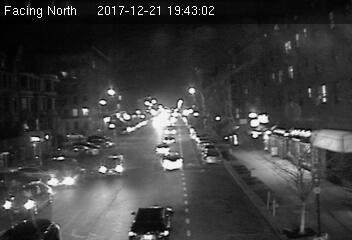car: (3, 181, 54, 215), (127, 205, 173, 240), (47, 164, 85, 189), (100, 155, 126, 177), (161, 151, 184, 170), (200, 148, 225, 164), (153, 144, 173, 155), (161, 134, 176, 144)
